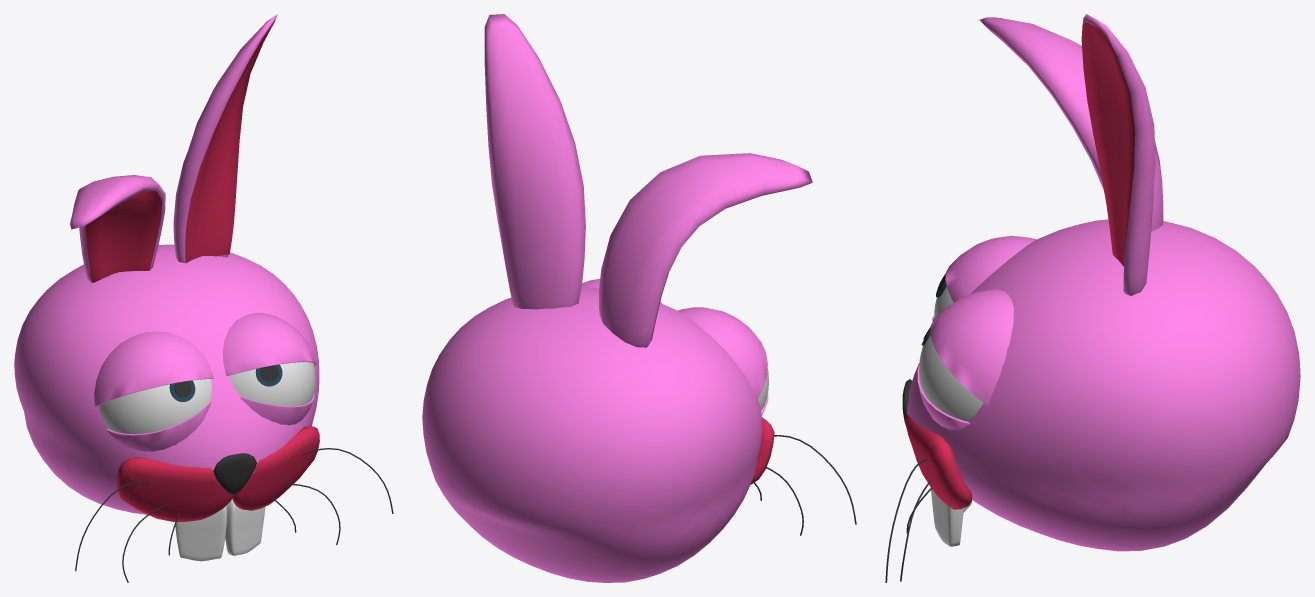
The model's file is rabbitball.fbx.
3 renders of one model, left to right at view 1: azimuth 30°, elevation 25°; view 2: azimuth 150°, elevation 25°; view 3: azimuth 270°, elevation 25°, orthographic. The views are drawn at different scales.
Visible parts, largest first — view 1: заяц.001; view 2: заяц.001; view 3: заяц.001.
Part boxes in pixels (x1,y1,x2,y2): заяц.001: (14,14,393,582); заяц.001: (422,14,856,582); заяц.001: (885,14,1300,582).
Bounding box in the file's own units: 18.97 × 28.63 × 18.64.
